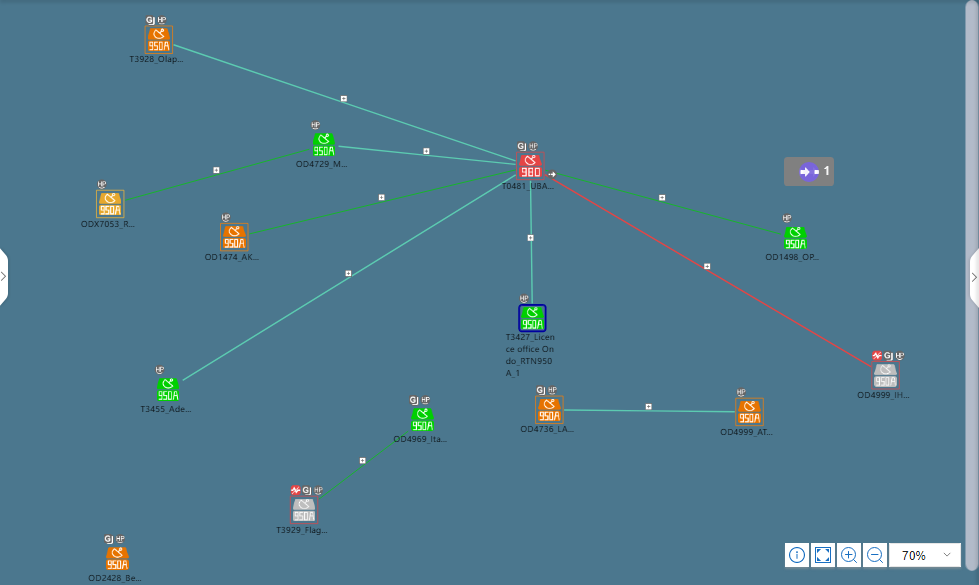Link_Blue: (181, 173, 511, 377), (182, 45, 512, 166), (340, 143, 508, 162), (560, 406, 736, 416)
Link_Green: (248, 167, 511, 239), (548, 167, 785, 239), (125, 149, 300, 201), (321, 430, 411, 494)
Link_Red: (548, 173, 867, 364)
RTN_Gray: (291, 497, 320, 527), (872, 363, 901, 392)
RTN_Green: (413, 406, 436, 435), (517, 308, 545, 331), (315, 136, 338, 159), (786, 228, 809, 251), (156, 381, 177, 404)
RTN_Orange: (737, 400, 766, 429), (144, 26, 171, 55), (107, 546, 130, 575), (535, 400, 564, 421), (223, 228, 246, 251)
RTN_Red: (517, 155, 546, 176)
RTN_Yellow: (95, 192, 124, 221)
